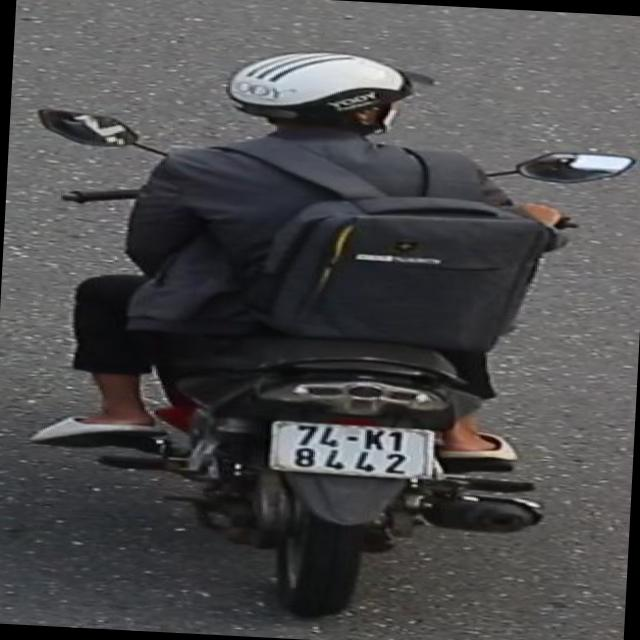LP: (260, 412, 446, 484)
helmet: (218, 42, 425, 154)
